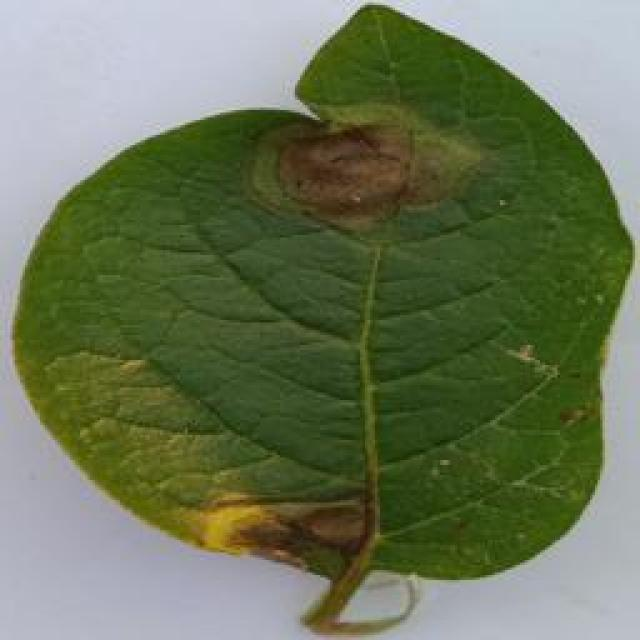Potato_Late_Blight: (19, 9, 620, 574)
